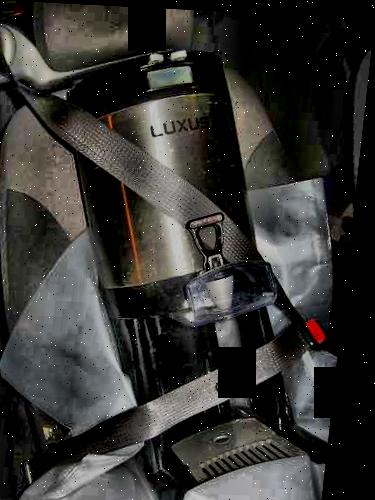seatbelt: (0, 70, 343, 455)
